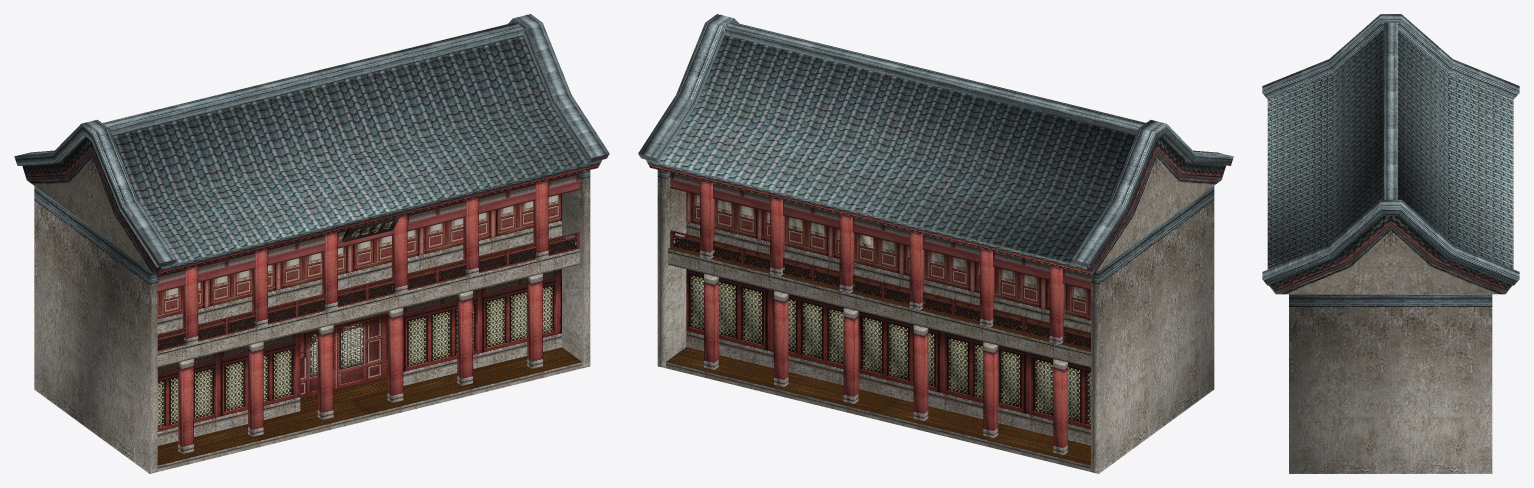
Rendered from cj_adult03.glb.
3 renders of one model, left to right at view 1: azimuth 30°, elevation 25°; view 2: azimuth 150°, elevation 25°; view 3: azimuth 270°, elevation 25°, orthographic. The views are drawn at different scales.
Visible parts, largest first — view 1: CJ_adult03_roof, CJ_adult03_wall01, CJ_adult03_fence, CJ_adult03_wall02, CJ_adult03_light, CJ_adult03_wall01_al; view 2: CJ_adult03_roof, CJ_adult03_wall01, CJ_adult03_fence, CJ_adult03_light, CJ_adult03_wall02; view 3: CJ_adult03_roof, CJ_adult03_wall01.
Part boxes in pixels (left/top/right/bottom): CJ_adult03_roof: left=14, top=14, right=609, bottom=473; CJ_adult03_wall01: left=22, top=136, right=609, bottom=471; CJ_adult03_fence: left=157, top=172, right=579, bottom=453; CJ_adult03_wall02: left=157, top=269, right=561, bottom=445; CJ_adult03_light: left=157, top=195, right=558, bottom=427; CJ_adult03_wall01_al: left=300, top=311, right=387, bottom=359; CJ_adult03_roof: left=638, top=14, right=1233, bottom=473; CJ_adult03_wall01: left=638, top=136, right=1225, bottom=471; CJ_adult03_fence: left=670, top=173, right=1090, bottom=454; CJ_adult03_light: left=690, top=194, right=1090, bottom=424; CJ_adult03_wall02: left=686, top=269, right=1090, bottom=445; CJ_adult03_roof: left=1262, top=14, right=1519, bottom=473; CJ_adult03_wall01: left=1269, top=216, right=1512, bottom=294.
Size of the model in its own units: 18.75 by 12.14 by 10.54.
6 materials, 6 textured.
